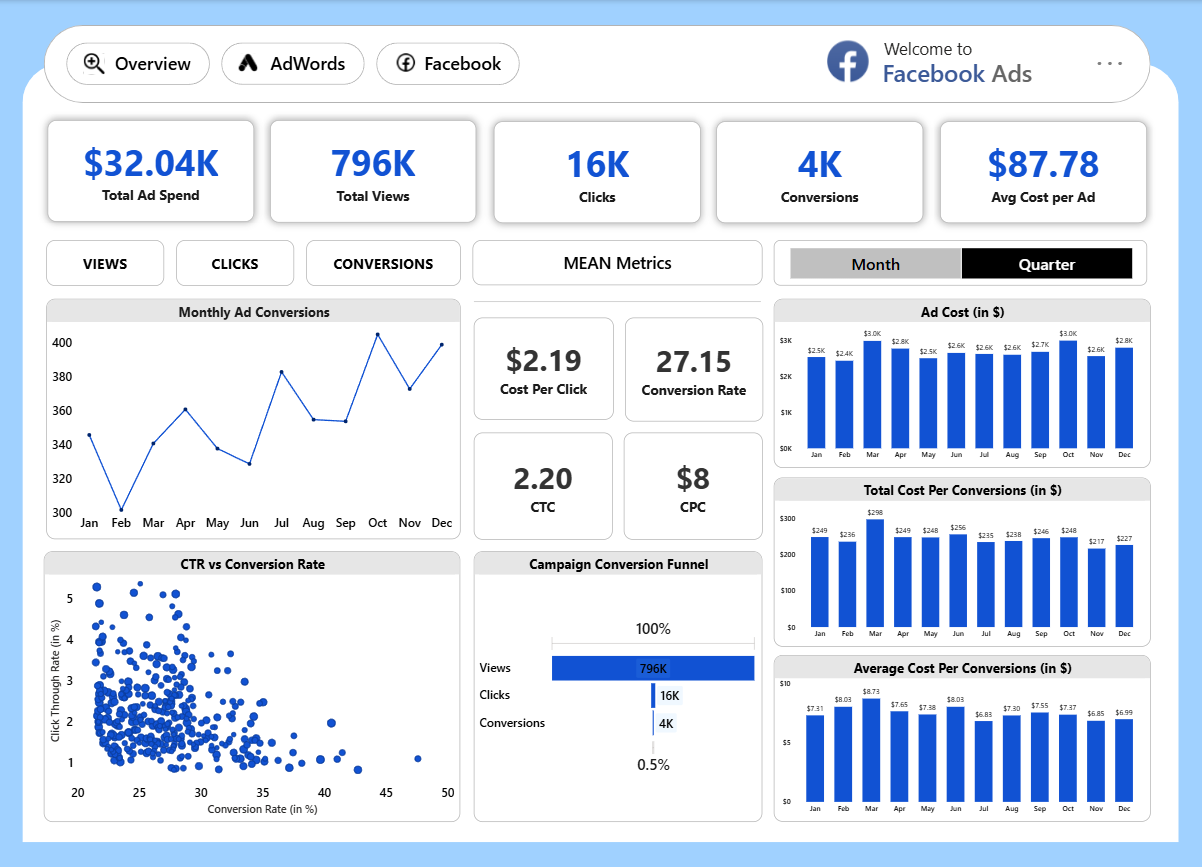

The page's visual inventory and layout, read from the dashboard file:
{"tool":"powerbi","page":{"name":"Facebook","canvas":[2700,1950],"ordinal":2},"visuals":[{"type":"shape","box":[49.1,144.4,2595.7,1747.9],"z":0},{"type":"shape","box":[1738,540,838,102],"z":1000},{"type":"cardVisual","title":"Total Ad Spend","fields":{"Data":["Sum(marketing_campaign.Cost per Facebook Ad (in $))"]},"box":[105.8,269.6,464.1,228.6],"z":2000},{"type":"cardVisual","fields":{"Data":["Sum(marketing_campaign.Facebook Ad Views)"]},"box":[606.7,270,463.3,230],"z":3000},{"type":"cardVisual","fields":{"Data":["Sum(marketing_campaign.Facebook Ad Clicks)"]},"box":[1107.6,273.3,465,229],"z":4000},{"type":"cardVisual","fields":{"Data":["Sum(marketing_campaign.Facebook Ad Conversions)"]},"box":[1609.2,273.3,465,229],"z":5000},{"type":"cardVisual","fields":{"Data":["Avg(marketing_campaign.Facebook Conversion Rate (Conversions / Clicks) (in %))"]},"box":[1402.6,711.7,310.3,233.5],"z":6000},{"type":"cardVisual","fields":{"Data":["Avg(marketing_campaign.Facebook Cost per Click (Ad Cost / Clicks) (in $))"]},"box":[1063.6,712.1,314.7,229.4],"z":7000},{"type":"clusteredColumnChart","title":"Ad Cost (in $)","fields":{"Category":["marketing_campaign.Short_Month"],"Y":["Sum(marketing_campaign.Cost per Facebook Ad (in $))"]},"box":[1738,672,846,380],"z":9000},{"type":"scatterChart","title":"CTR vs Conversion Rate","fields":{"X":["marketing_campaign.Facebook Conversion Rate (Conversions / Clicks) (in %)"],"Size":["Sum(marketing_campaign.Cost per Facebook Ad (in $))"],"Y":["marketing_campaign.Facebook Click-Through Rate (Clicks / View) (in %)"]},"box":[98.3,1238.3,935,608.3],"z":10000},{"type":"funnel","title":"Campaign Conversion Funnel","fields":{"Y":["Sum(marketing_campaign.Facebook Ad Views)","Sum(marketing_campaign.Facebook Ad Clicks)","Sum(marketing_campaign.Facebook Ad Conversions)"]},"box":[1063.3,1238.3,648.3,608.3],"z":11000},{"type":"clusteredColumnChart","title":"Average Cost Per Conversions (in $)","fields":{"Category":["marketing_campaign.Short_Month"],"Y":["marketing_campaign.FB_Cost_per_Conversion"]},"box":[1736,1472,846,374],"z":12000},{"type":"clusteredColumnChart","title":"Total Cost Per Conversions (in $)","fields":{"Category":["marketing_campaign.Short_Month"],"Y":["Sum(marketing_campaign.Facebook_Cost_per_Conversion)"]},"box":[1738,1072,846,380],"z":13000},{"type":"cardVisual","fields":{"Data":["Avg(marketing_campaign.Facebook Click-Through Rate (Clicks / View) (in %))"]},"box":[1063.6,970.9,311.8,241.2],"z":14000},{"type":"cardVisual","fields":{"Data":["Avg(marketing_campaign.Cost_per_Conversion)"]},"box":[1401.9,970.9,311.8,241.2],"z":15000},{"type":"areaChart","title":"Monthly Ad Conversions","fields":{"Category":["marketing_campaign.Short_Month"],"Y":["Sum(marketing_campaign.Facebook Ad Conversions)"]},"box":[102.5,670,930,540],"z":17000},{"type":"actionButton","box":[687.2,538.5,347.1,102.9],"z":18000},{"type":"actionButton","box":[104.8,538.5,265,102.9],"z":19000},{"type":"actionButton","box":[396,538.5,264.7,102.9],"z":20000},{"type":"cardVisual","fields":{"Data":["Avg(marketing_campaign.Cost per Facebook Ad (in $))"]},"box":[2110.7,272.6,464.7,229],"z":21000},{"type":"slicer","fields":{"Values":["Time Dynamic Axis.Time Dynamic Axis"]},"box":[1748.9,550.3,817.6,82.4],"z":22000},{"type":"shape","box":[1064.7,638,645.1,79.9],"z":23000},{"type":"shape","box":[98.3,55.3,2485.1,175.1],"z":24000},{"type":"shape","title":"AVERAGE","box":[1061.2,540,651.2,101.2],"z":25000},{"type":"actionButton","box":[147.4,95.2,322.5,95.2],"z":26000},{"type":"actionButton","box":[496.7,96.7,322,95],"z":27000},{"type":"actionButton","box":[845.6,95.6,322.2,95.6],"z":28000},{"type":"textbox","box":[1938.6,79.9,288.8,67.6],"z":29000},{"type":"textbox","box":[1962.9,119.8,374.8,89.1],"z":30000},{"type":"textbox","box":[2432.9,95.2,116.7,110.6],"z":31000},{"type":"actionButton","box":[1843.1,73.7,119.8,129],"z":32000}]}

Visuals, with their boxes in screenshot pixels (x1, y1, x2, y2), scaled from the page's 2700x1950 canvas onto the 1202x867 screenshot:
shape: [22, 64, 1177, 841]
shape: [774, 240, 1147, 285]
"Total Ad Spend" cardVisual: [47, 120, 254, 222]
cardVisual - Sum(marketing_campaign.Facebook Ad Views): [270, 120, 476, 222]
cardVisual - Sum(marketing_campaign.Facebook Ad Clicks): [493, 122, 700, 223]
cardVisual - Sum(marketing_campaign.Facebook Ad Conversions): [716, 122, 923, 223]
cardVisual - Avg(marketing_campaign.Facebook Conversion Rate (Conversions / Clicks) (in %)): [624, 316, 763, 420]
cardVisual - Avg(marketing_campaign.Facebook Cost per Click (Ad Cost / Clicks) (in $)): [473, 317, 614, 419]
"Ad Cost (in $)" clusteredColumnChart: [774, 299, 1150, 468]
"CTR vs Conversion Rate" scatterChart: [44, 551, 460, 821]
"Campaign Conversion Funnel" funnel: [473, 551, 762, 821]
"Average Cost Per Conversions (in $)" clusteredColumnChart: [773, 654, 1149, 821]
"Total Cost Per Conversions (in $)" clusteredColumnChart: [774, 477, 1150, 646]
cardVisual - Avg(marketing_campaign.Facebook Click-Through Rate (Clicks / View) (in %)): [473, 432, 612, 539]
cardVisual - Avg(marketing_campaign.Cost_per_Conversion): [624, 432, 763, 539]
"Monthly Ad Conversions" areaChart: [46, 298, 460, 538]
actionButton: [306, 239, 460, 285]
actionButton: [47, 239, 165, 285]
actionButton: [176, 239, 294, 285]
cardVisual - Avg(marketing_campaign.Cost per Facebook Ad (in $)): [940, 121, 1147, 223]
slicer - Time Dynamic Axis.Time Dynamic Axis: [779, 245, 1143, 281]
shape: [474, 284, 761, 319]
shape: [44, 25, 1150, 102]
"AVERAGE" shape: [472, 240, 762, 285]
actionButton: [66, 42, 209, 85]
actionButton: [221, 43, 364, 85]
actionButton: [376, 43, 520, 85]
textbox: [863, 36, 992, 66]
textbox: [874, 53, 1041, 93]
textbox: [1083, 42, 1135, 92]
actionButton: [821, 33, 874, 90]
